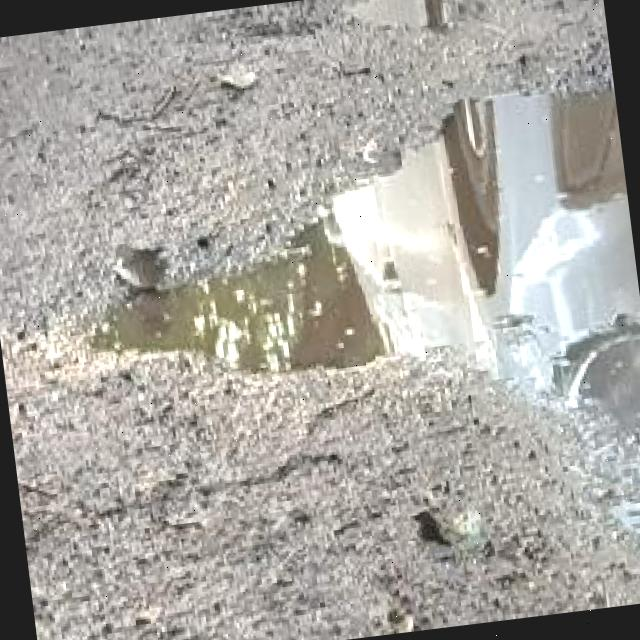stagnation: (40, 65, 640, 541)
